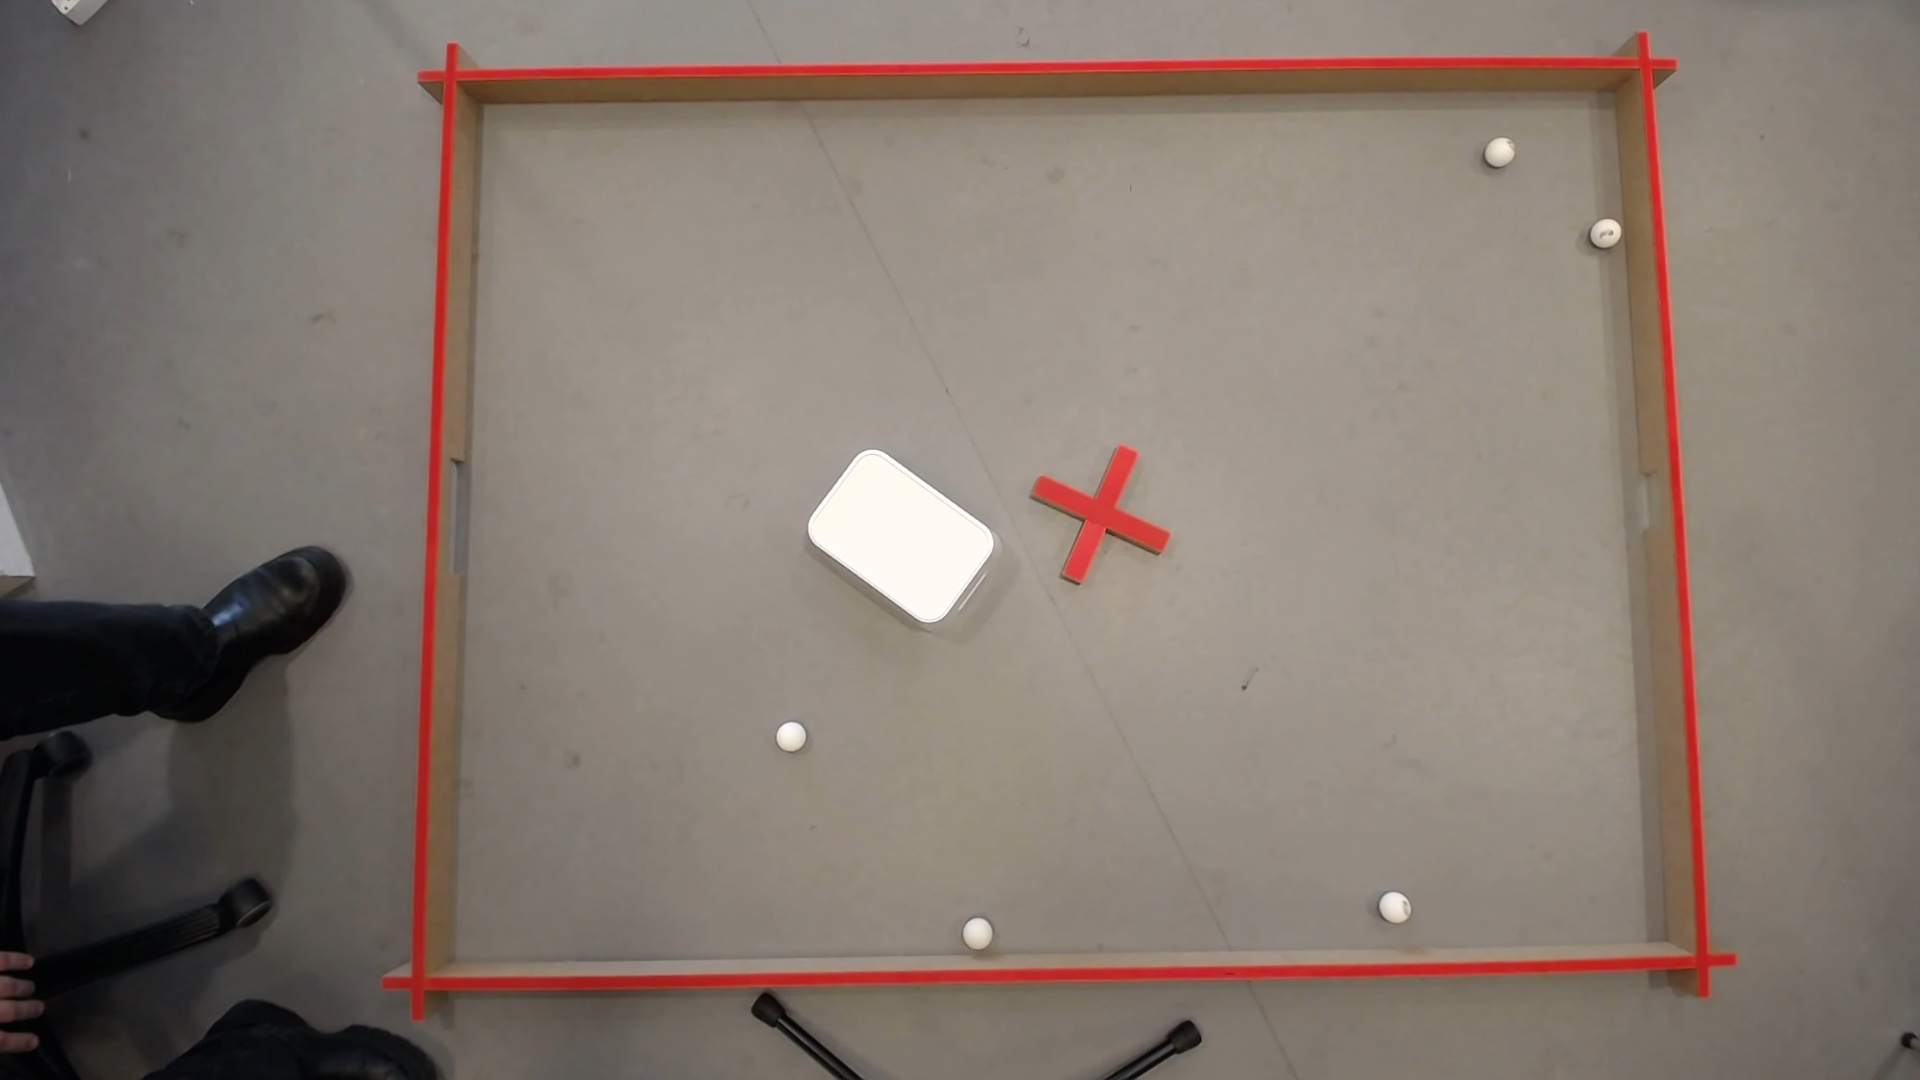balls: (798, 438, 1002, 632), (771, 716, 807, 752), (1377, 887, 1412, 922), (960, 913, 994, 947), (1592, 212, 1623, 244)
car: (1485, 133, 1515, 165)
